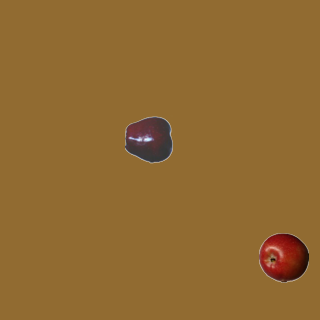Apple Braeburn: (258, 232, 308, 282)
Apple Red Delicious: (124, 114, 174, 164)
